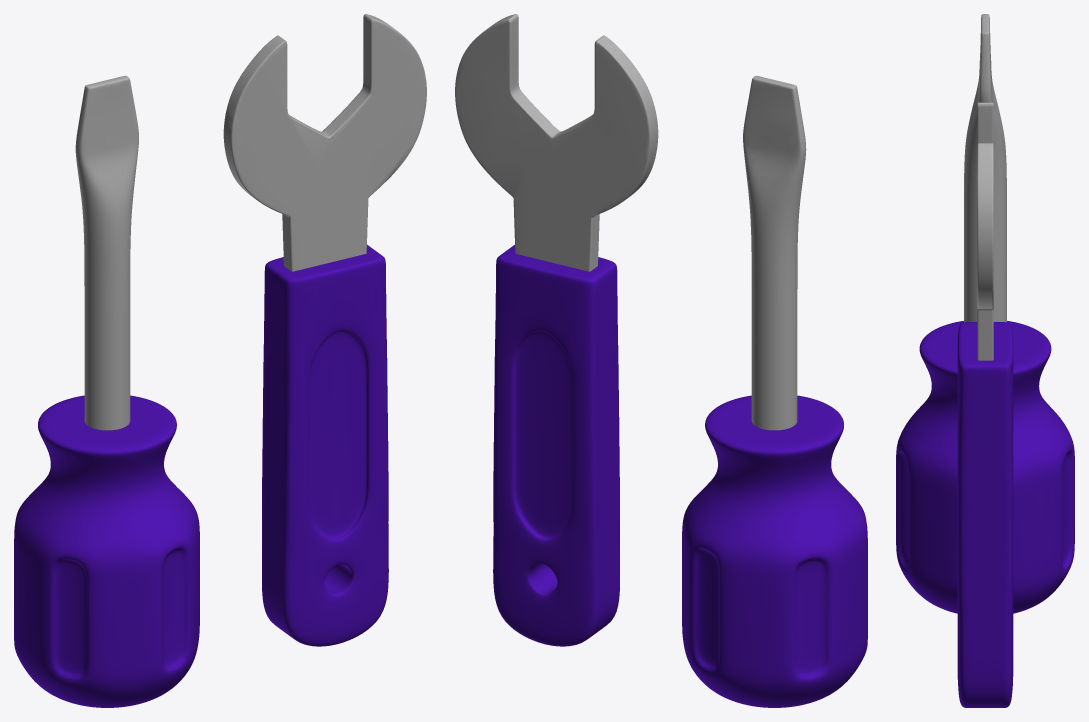
The model's file is tools.glb.
The picture shows the model from 3 angles, left to right: view 1: azimuth 30°, elevation 25°; view 2: azimuth 150°, elevation 25°; view 3: azimuth 270°, elevation 25°; orthographic projection. The views are drawn at different scales.
Parts seen in each view (by area): view 1: Cylinder.012; view 2: Cylinder.012; view 3: Cylinder.012.
Boxes of the visible parts, x1=… form: Cylinder.012: x1=14, y1=14, x2=426, y2=707; Cylinder.012: x1=455, y1=14, x2=867, y2=707; Cylinder.012: x1=896, y1=14, x2=1074, y2=707.
Bounding box in the file's own units: 1.31 × 1.94 × 0.5427.
